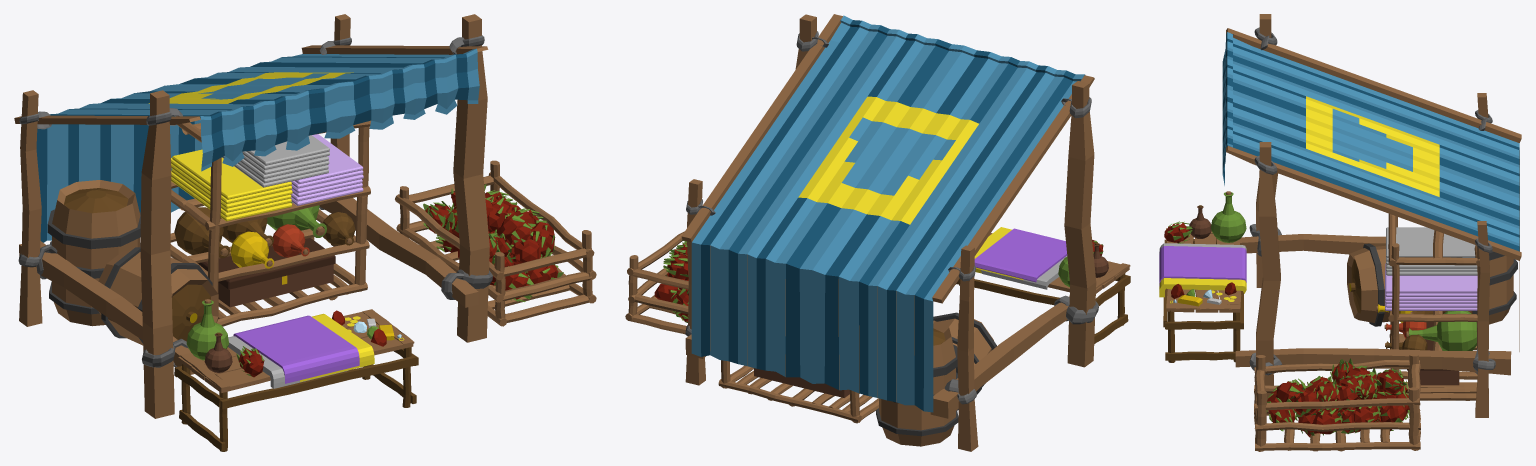
File: Building_LV3_OutdoorShop_Blue.fbx
3 views of the same model, side by side, from view 1: azimuth 30°, elevation 25°; view 2: azimuth 150°, elevation 25°; view 3: azimuth 270°, elevation 25° (orthographic). The views are drawn at different scales.
Parts seen in each view (by area): view 1: OutdoorShop_Blue; view 2: OutdoorShop_Blue; view 3: OutdoorShop_Blue.
Part boxes in pixels (<box>): OutdoorShop_Blue: <box>14,14,596,451</box>; OutdoorShop_Blue: <box>625,14,1130,451</box>; OutdoorShop_Blue: <box>1159,14,1521,451</box>.
Bounding box in the file's own units: 376 × 262 × 313.
13 materials, 13 textured.
